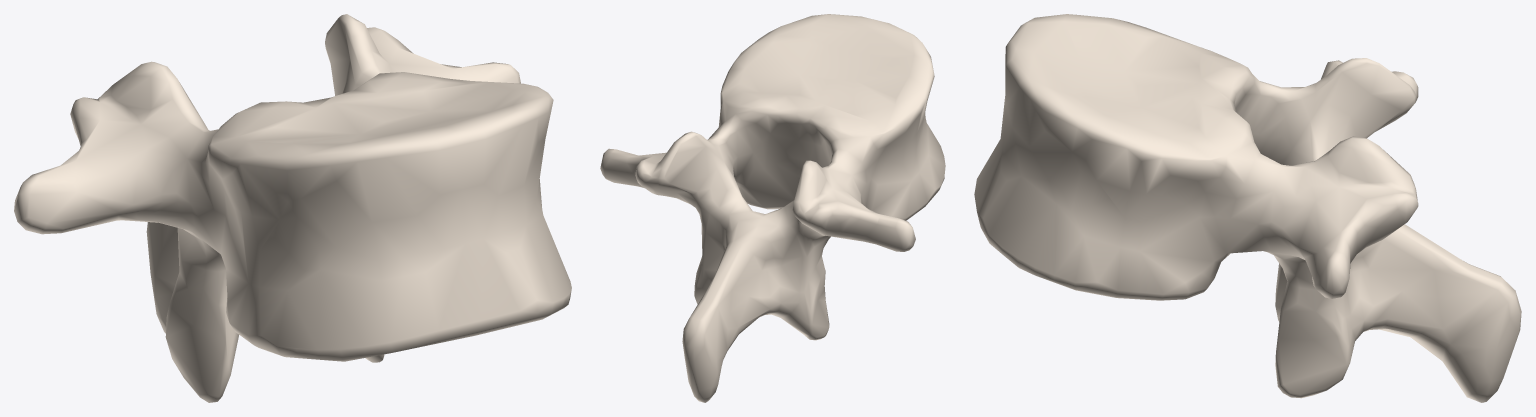
3 renders of one model, left to right at view 1: azimuth 30°, elevation 25°; view 2: azimuth 150°, elevation 25°; view 3: azimuth 270°, elevation 25°, orthographic. The views are drawn at different scales.
Visible parts, largest first — view 1: Lumbar vertebrae (L1); view 2: Lumbar vertebrae (L1); view 3: Lumbar vertebrae (L1).
Part boxes in pixels (bbox=[...]): Lumbar vertebrae (L1): bbox=[14, 14, 571, 402]; Lumbar vertebrae (L1): bbox=[600, 14, 945, 402]; Lumbar vertebrae (L1): bbox=[974, 14, 1521, 402].
Size of the model in its own units: 0.0741 by 0.0588 by 0.0825.
